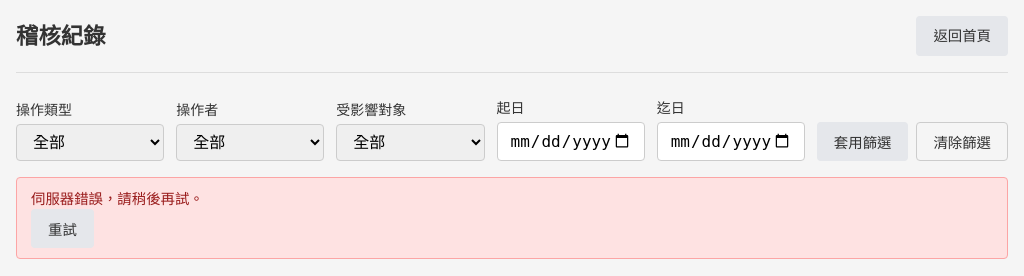
Scenario: AuditLogPage › AC-17: 五態 › Error 態（500）：顯示錯誤訊息與重試鈕，重試不重複送出
expect the text "伺服器錯誤，請稍後再試。" is shown: met, box [31,190,204,207]
Click the button "重試" at (62, 229), box [31,209,94,248]
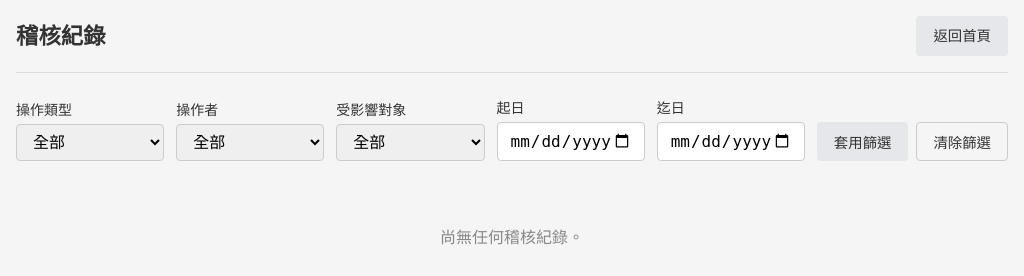
expect the button "重試" is gone: met
expect the text "尚無任何稽核紀錄。" is shown: met, box [440,227,584,247]
